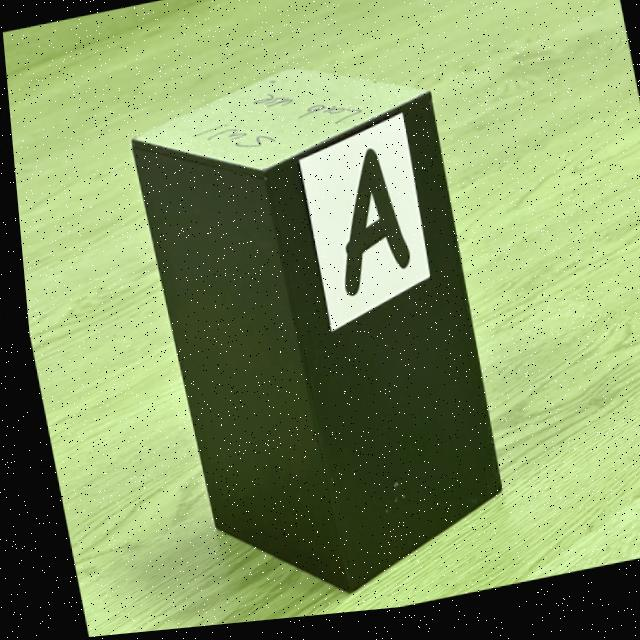A: (338, 155, 404, 302)
